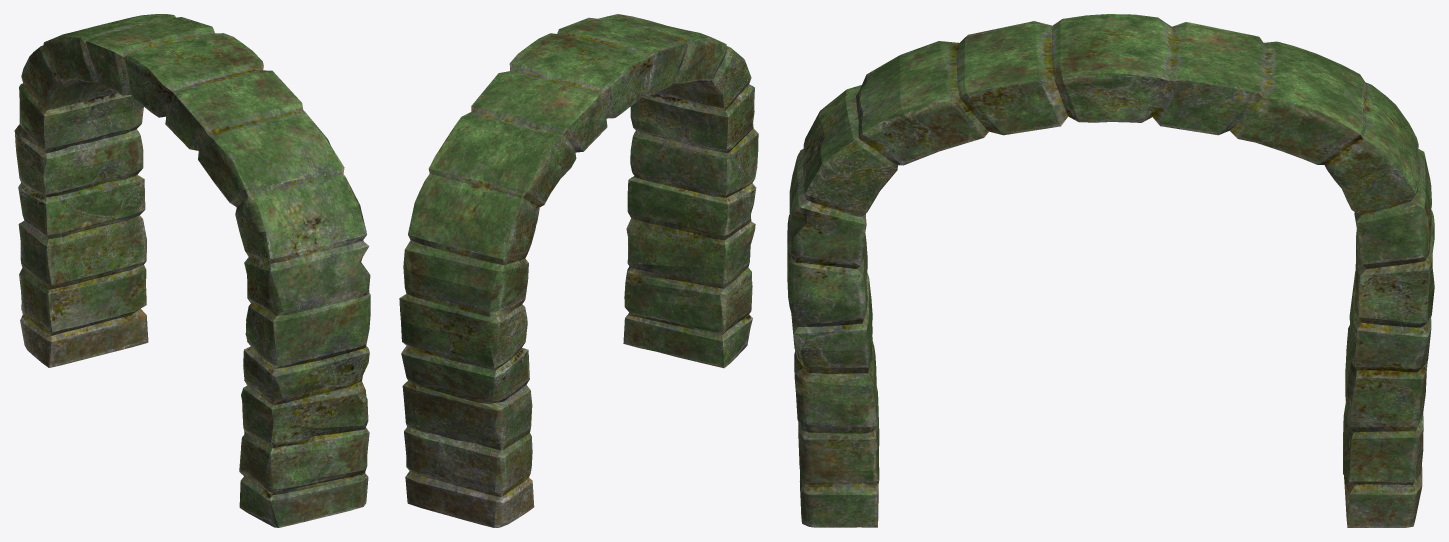
The model's file is gate_2.obj.
The picture shows the model from 3 angles, left to right: view 1: azimuth 30°, elevation 25°; view 2: azimuth 150°, elevation 25°; view 3: azimuth 270°, elevation 25°; orthographic projection. The views are drawn at different scales.
Visible parts, largest first — view 1: polySurface17_Mesh.001; view 2: polySurface17_Mesh.001; view 3: polySurface17_Mesh.001.
Part boxes in pixels (box(x1,y1,x2,y2)): polySurface17_Mesh.001: box(14, 14, 370, 527); polySurface17_Mesh.001: box(399, 14, 758, 527); polySurface17_Mesh.001: box(787, 14, 1434, 527).
Size of the model in its own units: 1 by 3.5 by 4.5.
